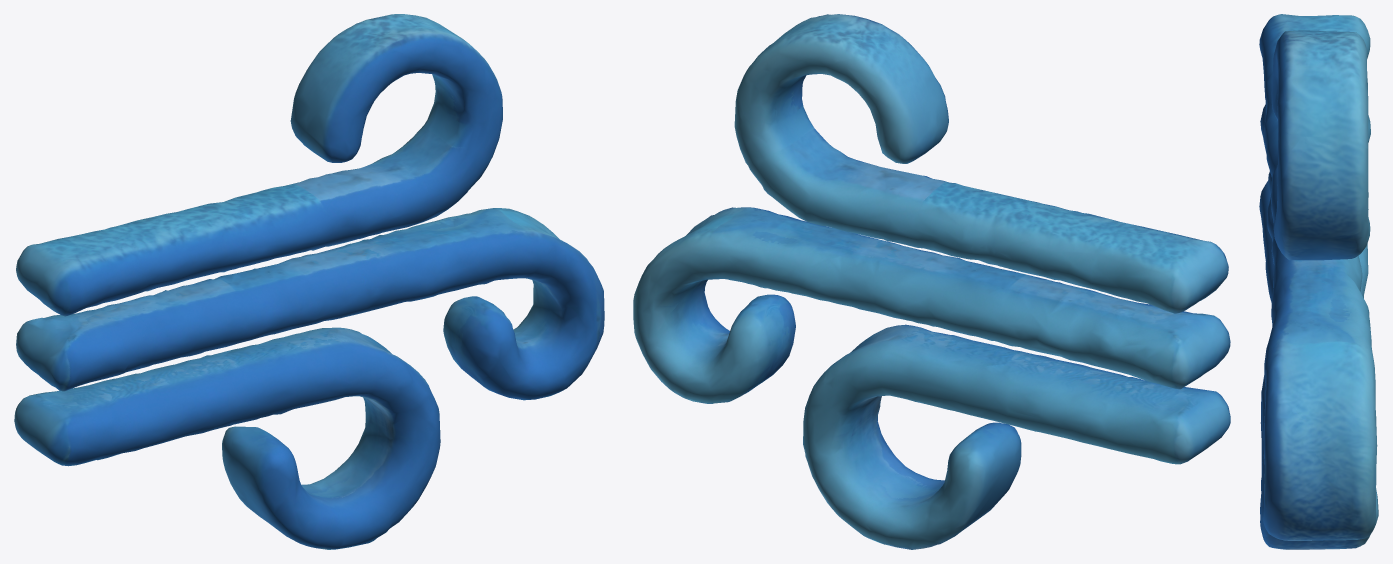
The model's file is wind.fbx.
3 renders of one model, left to right at view 1: azimuth 30°, elevation 25°; view 2: azimuth 150°, elevation 25°; view 3: azimuth 270°, elevation 25°, orthographic. The views are drawn at different scales.
Visible parts, largest first — view 1: Mesh_0; view 2: Mesh_0; view 3: Mesh_0.
Boxes of the visible parts, bbox=[...] form: Mesh_0: bbox=[14, 14, 604, 549]; Mesh_0: bbox=[633, 14, 1230, 549]; Mesh_0: bbox=[1259, 14, 1378, 549].
Bounding box in the file's own units: 120 × 101 × 20.39.
1 material, 1 textured.
